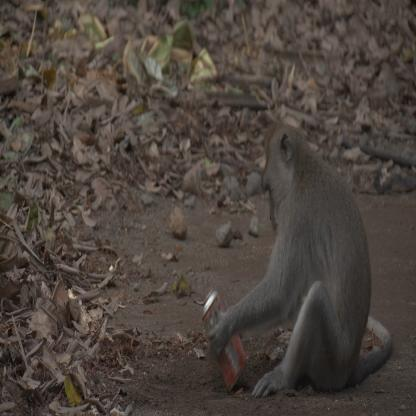monkey: (206, 121, 375, 401)
